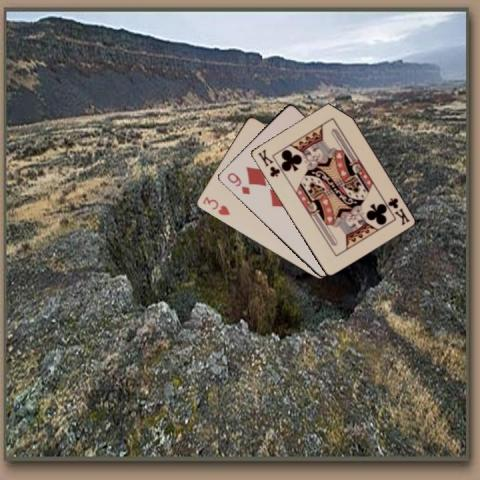3h: (200, 193, 232, 217)
9d: (224, 169, 251, 196)
Kc: (384, 194, 410, 226), (255, 147, 281, 178)
